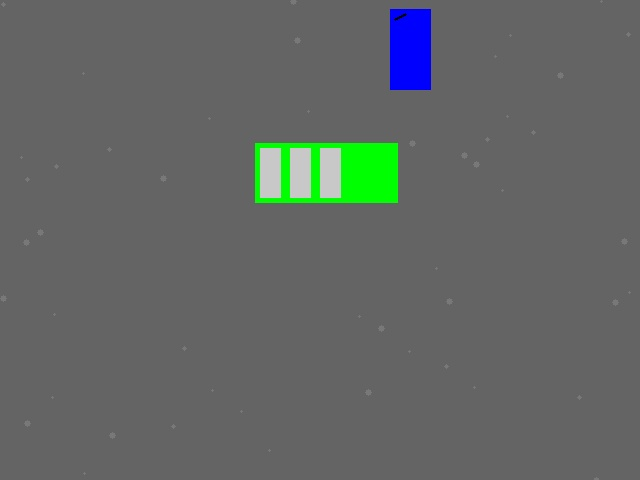bus: (255, 143, 397, 202)
motorcycle: (390, 9, 430, 89)
